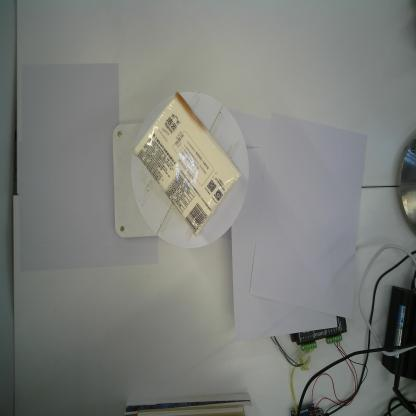Tissue: (133, 90, 242, 237)
